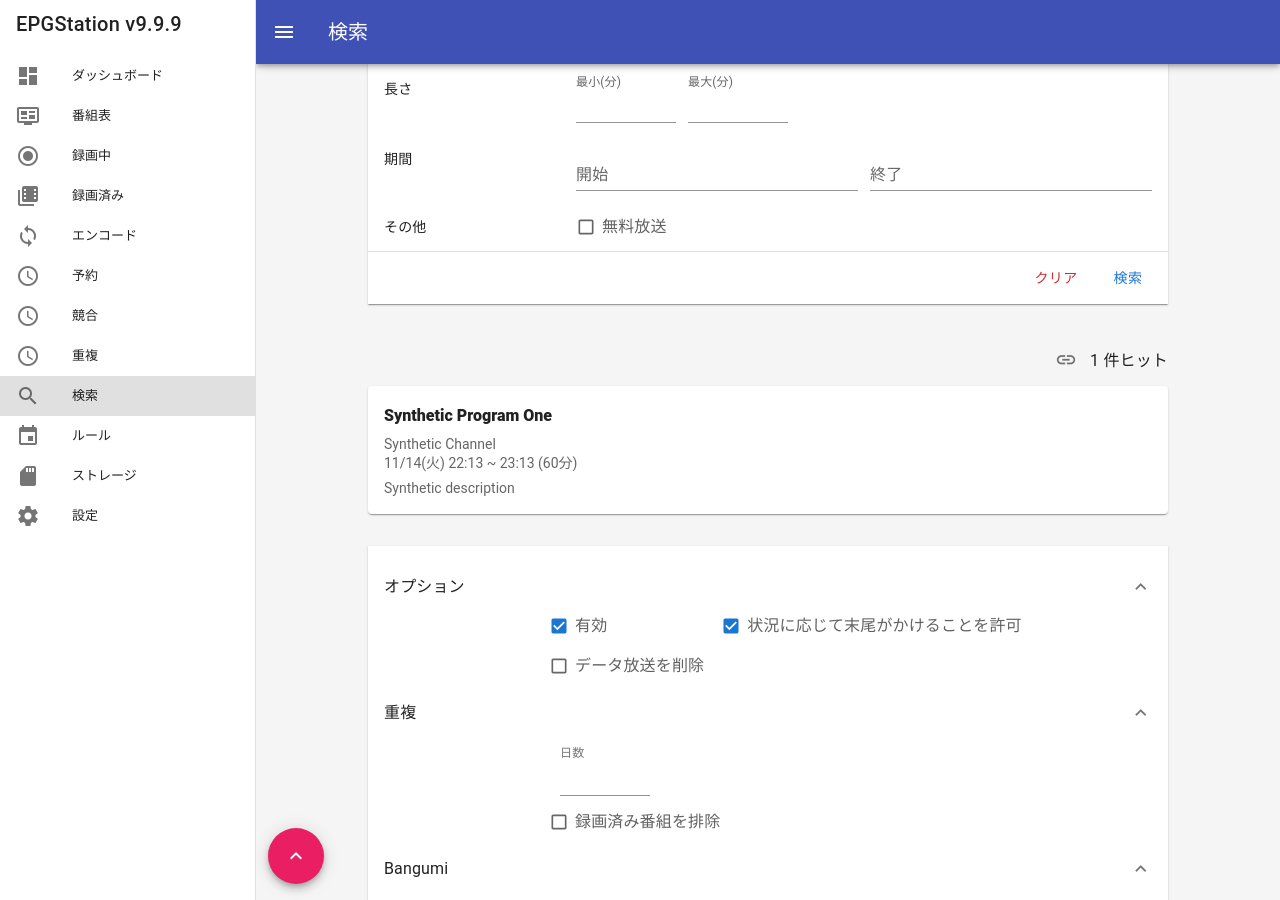
Test case: Search route lifecycle › [AC 2.16] deletes an existing reservation from a search result ProgramDialog
(page scrolled)
Click the button "Synthetic Program One" at x=468, y=416, box [368, 386, 1168, 514]
(page scrolled)
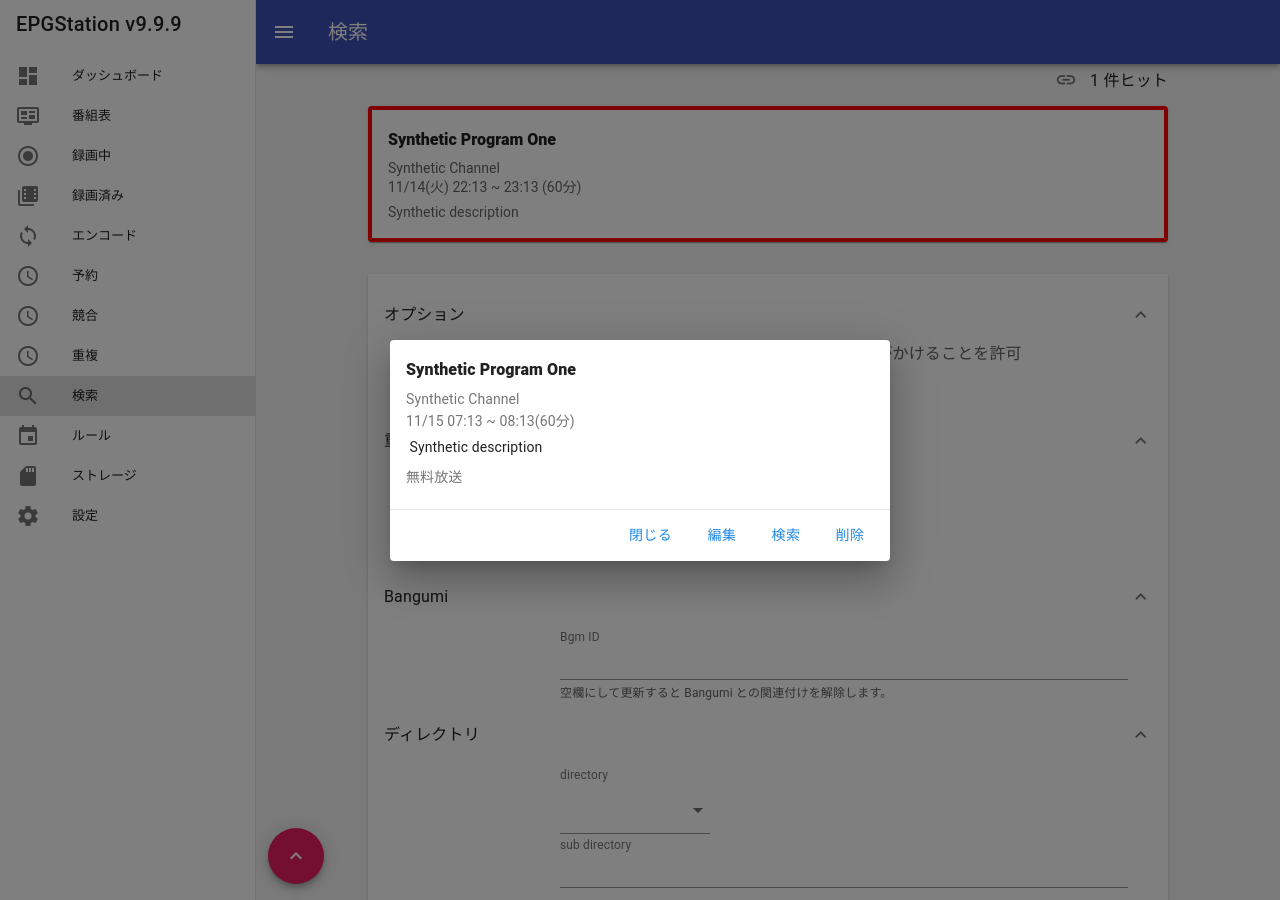
Click the button "削除" at x=850, y=536, box [818, 518, 882, 554]
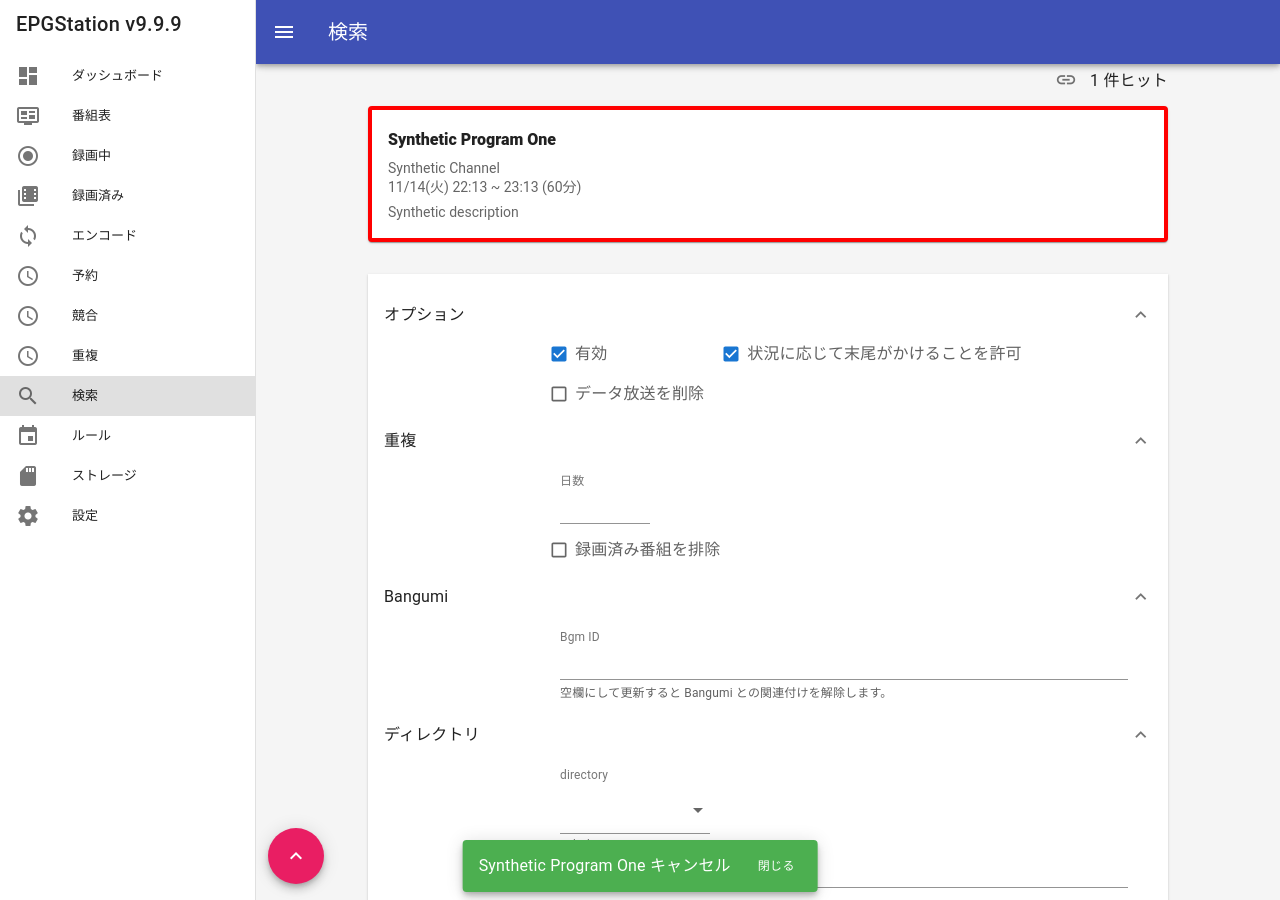
Check: the text "Synthetic Program One キャンセル" is shown, box [479, 856, 731, 875]
